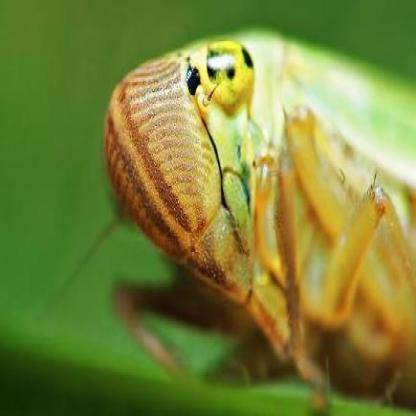Green-Leafhopper: (101, 23, 416, 416)
